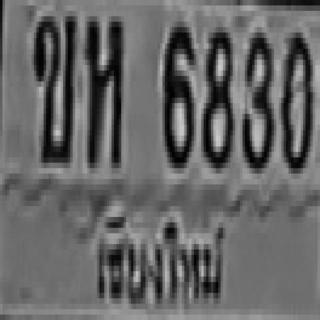A02: (31, 11, 75, 164)
A41: (82, 11, 124, 170)
N00: (280, 29, 312, 170)
N03: (242, 27, 274, 168)
N06: (162, 16, 194, 168)
N08: (201, 22, 233, 169)
P11: (89, 201, 230, 314)
